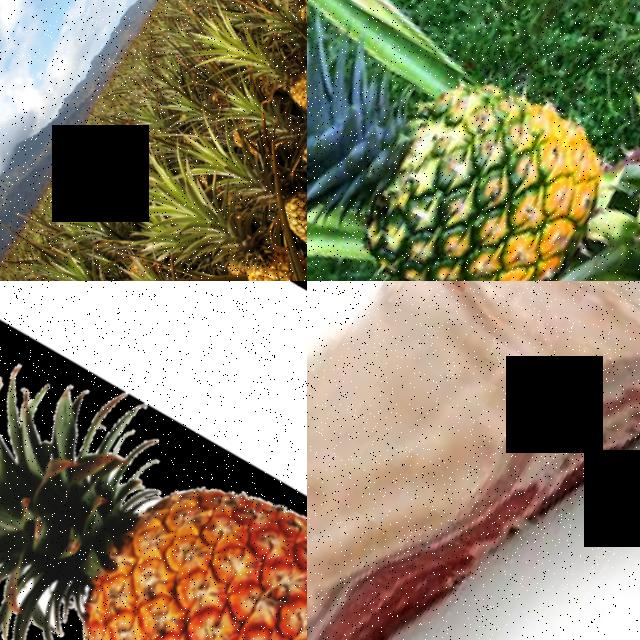pineapple: (307, 29, 640, 281), (0, 372, 307, 640), (217, 217, 307, 281), (259, 168, 307, 256), (264, 48, 307, 121), (280, 112, 307, 181)
pork belly: (307, 281, 640, 640)
